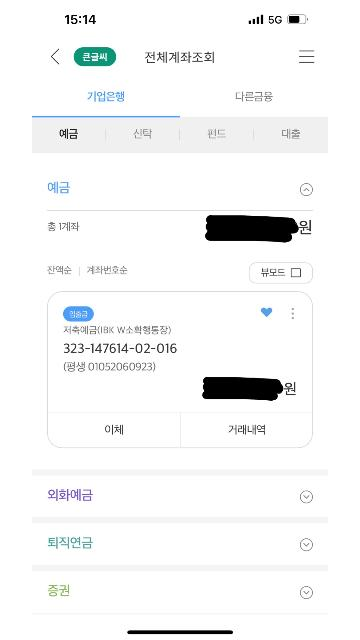Card: (47, 292, 313, 448)
Icon: (299, 50, 315, 64), (51, 48, 59, 64), (291, 268, 301, 278), (262, 307, 272, 317), (292, 308, 294, 320), (303, 188, 309, 192), (303, 543, 309, 547), (303, 496, 309, 498), (303, 592, 309, 594)
ImageButton: (300, 538, 312, 552), (300, 182, 312, 195), (300, 491, 312, 504), (300, 586, 312, 598)
List: (32, 470, 328, 614)
Multi_Tab: (33, 77, 328, 117)
Text: (63, 342, 176, 354), (63, 361, 155, 372), (64, 326, 170, 334), (145, 51, 215, 63), (48, 489, 92, 501), (48, 537, 92, 549), (228, 425, 266, 437), (88, 90, 124, 102), (236, 92, 272, 102), (48, 222, 80, 232), (87, 266, 127, 274), (48, 584, 70, 596), (83, 52, 107, 62), (48, 182, 68, 194), (60, 128, 78, 140), (282, 128, 300, 140), (105, 424, 123, 436), (48, 266, 72, 274), (261, 269, 285, 277), (134, 129, 152, 139), (208, 129, 226, 139), (299, 220, 311, 234), (70, 310, 88, 318), (284, 383, 296, 395)
TextButton: (46, 412, 180, 448), (181, 412, 313, 448), (255, 118, 328, 152), (33, 118, 106, 152), (181, 118, 253, 152), (107, 118, 179, 152), (74, 48, 116, 66), (64, 306, 94, 322)
TextImageButton: (249, 262, 313, 284)
Toolbar: (33, 44, 328, 74)
UpperTaskBar: (33, 1, 328, 44)
